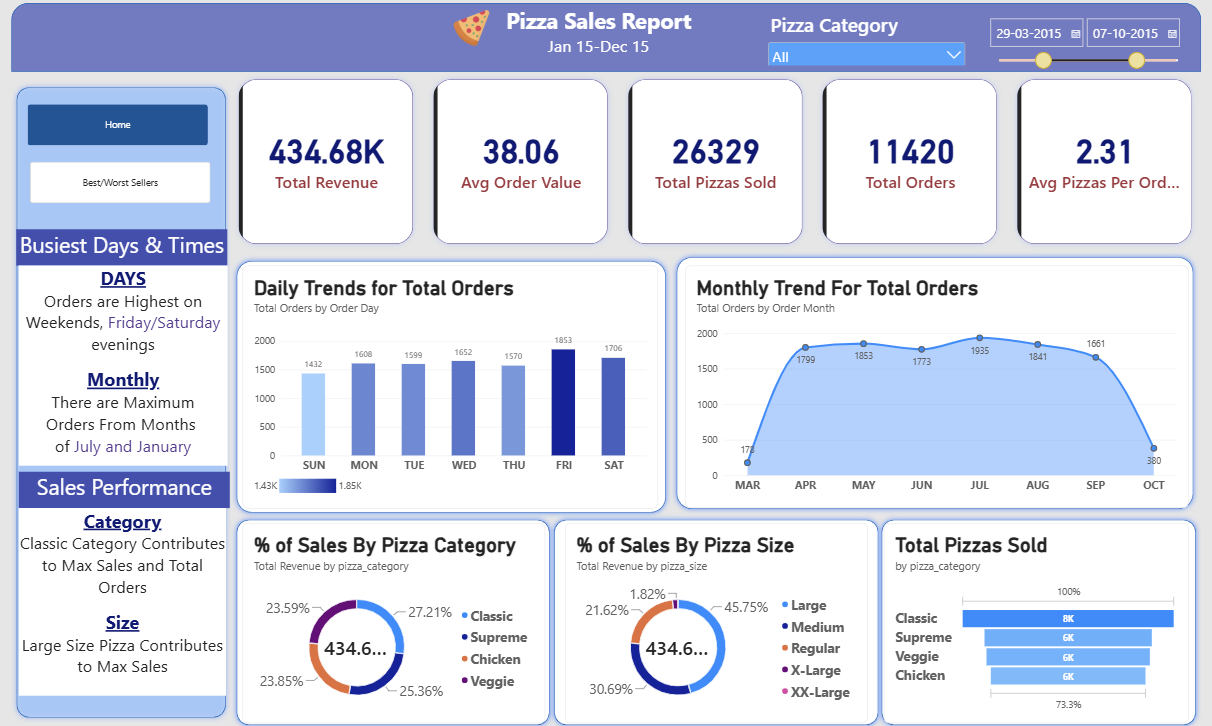

The dashboard page shown, as its layout file describes it:
{"tool":"powerbi","page":{"name":"Home","canvas":[1800,1100],"ordinal":0},"visuals":[{"type":"cardVisual","fields":{"Data":["pizza_sales_excel_file.Total Revenue","pizza_sales_excel_file.Avg Order Value","pizza_sales_excel_file.Total Pizzas Sold","pizza_sales_excel_file.Total Orders","pizza_sales_excel_file.Avg Pizzas Per Order"]},"box":[348.4,123.5,1430.5,265.5],"z":0},{"type":"shape","box":[24,22.1,1754.7,101.4],"z":1000},{"type":"textbox","box":[672.8,25.8,435,92.2],"z":2000},{"type":"image","box":[670.9,31.3,63.3,55.6],"z":3000},{"type":"shape","box":[348.4,394.4,648.8,387.1],"z":4000},{"type":"columnChart","title":"Daily Trends for Total Orders","fields":{"Category":["pizza_sales_excel_file.Order Day"],"Y":["pizza_sales_excel_file.Total Orders"]},"box":[364.9,409.2,613.1,358.3],"z":5000},{"type":"shape","box":[997.2,388.9,777.8,387.1],"z":6000},{"type":"areaChart","title":"Monthly Trend For Total Orders","fields":{"Category":["pizza_sales_excel_file.Order Month"],"Y":["pizza_sales_excel_file.Total Orders"]},"box":[1017.4,409.2,742.8,357.6],"z":7000},{"type":"shape","box":[348.4,776,477.4,318.9],"z":8000},{"type":"shape","box":[816.5,776,494,318.9],"z":9000},{"type":"shape","box":[1299.4,776,479.2,318.9],"z":10000},{"type":"donutChart","title":"% of Sales By Pizza Category ","fields":{"Category":["pizza_sales_excel_file.pizza_category"],"Y":["pizza_sales_excel_file.Total Revenue"]},"box":[364.9,788.9,446,294.9],"z":11000},{"type":"donutChart","title":"% of Sales By Pizza Size","fields":{"Category":["pizza_sales_excel_file.pizza_size"],"Y":["pizza_sales_excel_file.Total Revenue"]},"box":[840.5,788.9,446,294.9],"z":12000},{"type":"funnel","fields":{"Category":["pizza_sales_excel_file.pizza_category"],"Y":["pizza_sales_excel_file.Total Pizzas Sold"]},"box":[1310.5,788.9,449.7,294.9],"z":13000},{"type":"shape","box":[24,138.2,324.4,945.5],"z":14000},{"type":"textbox","box":[30.9,355.1,311.5,53.5],"z":15000},{"type":"textbox","box":[34.7,409.1,307.8,294.9],"z":15001},{"type":"textbox","box":[34.7,714,311.5,53.5],"z":15002},{"type":"textbox","box":[34.7,766.1,306,276.5],"z":15003},{"type":"slicer","fields":{"Values":["pizza_sales_excel_file.pizza_category"]},"box":[1135.4,35,300.4,79.3],"z":15004},{"type":"slicer","fields":{"Values":["pizza_sales_excel_file.order_date"]},"box":[1459.8,25.8,300.4,99.5],"z":15005},{"type":"pageNavigator","box":[48.2,171.7,266.3,61.7],"z":15006},{"type":"pageNavigator","box":[52.1,256.6,266.3,61.7],"z":15007}]}

Visuals, with their boxes in screenshot pixels (x1, y1, x2, y2), scaled from the page's 1800x1100 canvas onto the 1212x726 screenshot:
cardVisual - pizza_sales_excel_file.Total Revenue x pizza_sales_excel_file.Avg Order Value: <bbox>235, 82, 1198, 257</bbox>
shape: <bbox>16, 15, 1198, 82</bbox>
textbox: <bbox>453, 17, 746, 78</bbox>
image: <bbox>452, 21, 494, 57</bbox>
shape: <bbox>235, 260, 671, 516</bbox>
"Daily Trends for Total Orders" columnChart: <bbox>246, 270, 659, 507</bbox>
shape: <bbox>671, 257, 1195, 512</bbox>
"Monthly Trend For Total Orders" areaChart: <bbox>685, 270, 1185, 506</bbox>
shape: <bbox>235, 512, 556, 723</bbox>
shape: <bbox>550, 512, 882, 723</bbox>
shape: <bbox>875, 512, 1198, 723</bbox>
"% of Sales By Pizza Category " donutChart: <bbox>246, 521, 546, 715</bbox>
"% of Sales By Pizza Size" donutChart: <bbox>566, 521, 866, 715</bbox>
funnel - pizza_sales_excel_file.pizza_category x pizza_sales_excel_file.Total Pizzas Sold: <bbox>882, 521, 1185, 715</bbox>
shape: <bbox>16, 91, 235, 715</bbox>
textbox: <bbox>21, 234, 231, 270</bbox>
textbox: <bbox>23, 270, 231, 465</bbox>
textbox: <bbox>23, 471, 233, 507</bbox>
textbox: <bbox>23, 506, 229, 688</bbox>
slicer - pizza_sales_excel_file.pizza_category: <bbox>765, 23, 967, 75</bbox>
slicer - pizza_sales_excel_file.order_date: <bbox>983, 17, 1185, 83</bbox>
pageNavigator: <bbox>32, 113, 212, 154</bbox>
pageNavigator: <bbox>35, 169, 214, 210</bbox>
